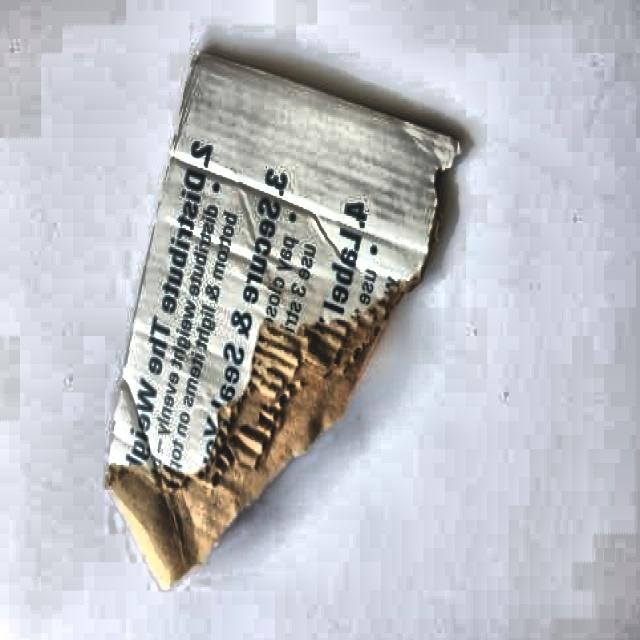cardboard: (104, 52, 464, 592)
